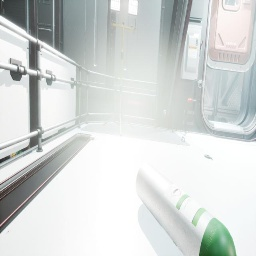0: (136, 162, 237, 256), (5, 150, 23, 158)
SafetySwitchPanel ,: (180, 24, 203, 81)
